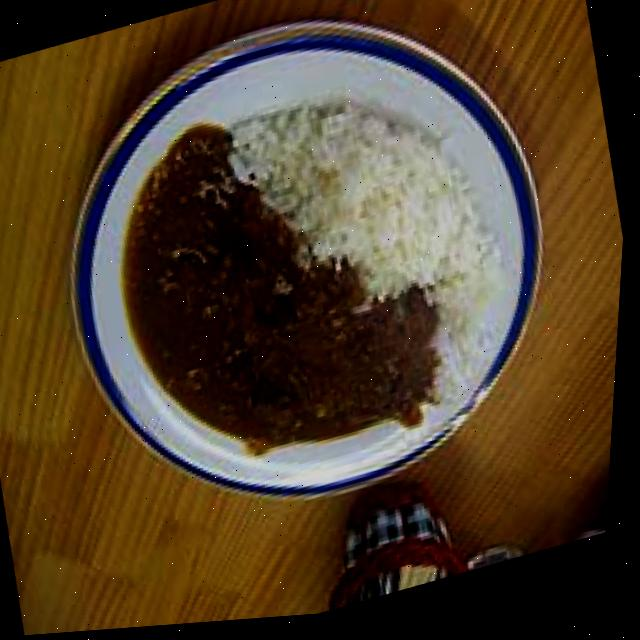牛肉菜式: (21, 0, 603, 572)
